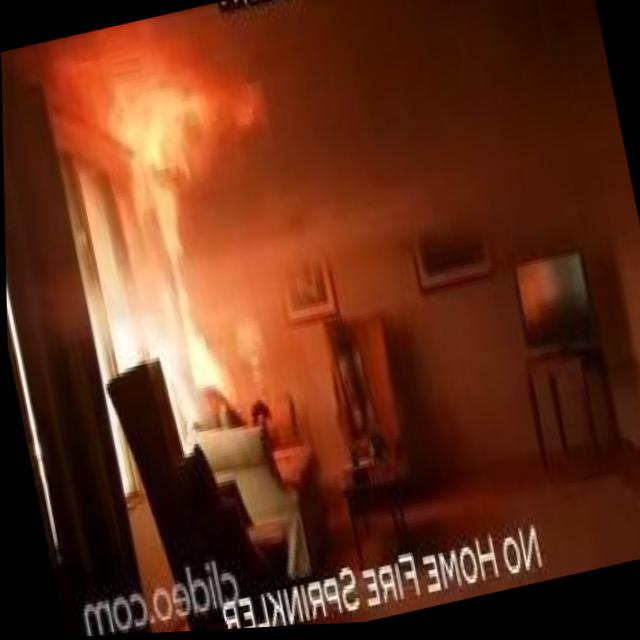fire: (109, 64, 268, 214), (152, 191, 233, 400)
